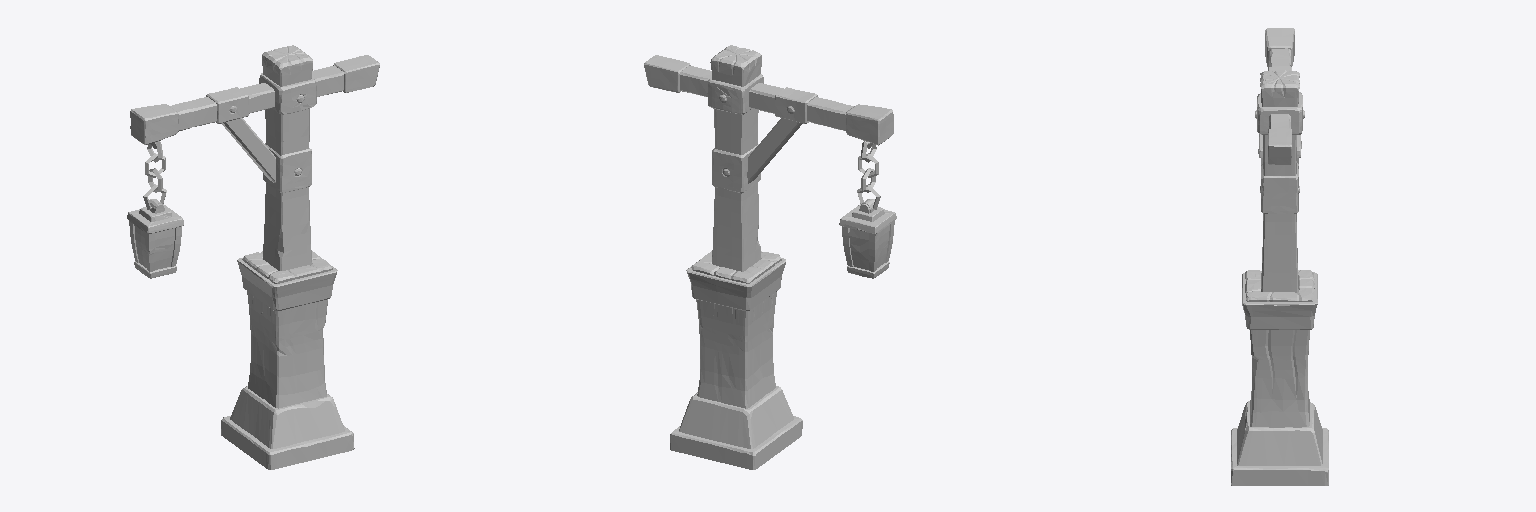
The model's file is LampPost.obj.
3 renders of one model, left to right at view 1: azimuth 30°, elevation 25°; view 2: azimuth 150°, elevation 25°; view 3: azimuth 270°, elevation 25°, orthographic.
Parts seen in each view (by area): view 1: Wood_Base_low_Plane.001, Base_Stone_low_Plane, Wood_Pillar_low_Plane.002, Lantern_low_Cube, Metal_Ring_low_Plane.003, Wood_Horizontal_low_Plane.005, Metal_Block_05_low_Plane.010, Metal_Block_01_low_Plane.006, Wood_Small_low_Plane.004, Metal_Block_03_low_Plane.008, Metal_Block_02_low_Plane.007, Metal_Block_04_low_Plane.009; view 2: Wood_Base_low_Plane.001, Base_Stone_low_Plane, Wood_Pillar_low_Plane.002, Lantern_low_Cube, Metal_Ring_low_Plane.003, Wood_Horizontal_low_Plane.005, Metal_Block_05_low_Plane.010, Metal_Block_01_low_Plane.006, Wood_Small_low_Plane.004, Metal_Block_03_low_Plane.008, Metal_Block_02_low_Plane.007, Metal_Block_04_low_Plane.009; view 3: Wood_Base_low_Plane.001, Base_Stone_low_Plane, Wood_Pillar_low_Plane.002, Metal_Ring_low_Plane.003, Metal_Block_01_low_Plane.006, Metal_Block_03_low_Plane.008, Metal_Block_02_low_Plane.007, Metal_Block_05_low_Plane.010, Wood_Horizontal_low_Plane.005.
Boxes of the visible parts, box(x1,y1,x2,y2) form: Wood_Base_low_Plane.001: box(242, 251, 332, 408); Base_Stone_low_Plane: box(221, 386, 354, 469); Wood_Pillar_low_Plane.002: box(262, 45, 312, 270); Lantern_low_Cube: box(127, 204, 183, 278); Metal_Ring_low_Plane.003: box(237, 257, 337, 310); Wood_Horizontal_low_Plane.005: box(170, 65, 343, 131); Metal_Block_05_low_Plane.010: box(130, 104, 178, 144); Metal_Block_01_low_Plane.006: box(263, 143, 311, 192); Wood_Small_low_Plane.004: box(222, 118, 275, 182); Metal_Block_03_low_Plane.008: box(259, 73, 316, 114); Metal_Block_02_low_Plane.007: box(333, 55, 379, 92); Metal_Block_04_low_Plane.009: box(206, 87, 248, 123); Wood_Base_low_Plane.001: box(691, 251, 781, 408); Base_Stone_low_Plane: box(670, 386, 802, 469); Wood_Pillar_low_Plane.002: box(710, 45, 761, 271); Lantern_low_Cube: box(839, 204, 896, 278); Metal_Ring_low_Plane.003: box(686, 258, 785, 310); Wood_Horizontal_low_Plane.005: box(680, 66, 853, 130); Metal_Block_05_low_Plane.010: box(845, 104, 893, 145); Metal_Block_01_low_Plane.006: box(712, 144, 760, 193); Wood_Small_low_Plane.004: box(747, 118, 802, 183); Metal_Block_03_low_Plane.008: box(707, 74, 763, 114); Metal_Block_02_low_Plane.007: box(644, 55, 690, 92); Metal_Block_04_low_Plane.009: box(775, 87, 817, 123); Wood_Base_low_Plane.001: box(1245, 270, 1314, 427); Base_Stone_low_Plane: box(1231, 401, 1328, 485); Wood_Pillar_low_Plane.002: box(1260, 70, 1299, 292); Metal_Ring_low_Plane.003: box(1242, 272, 1317, 329); Metal_Block_01_low_Plane.006: box(1261, 163, 1298, 213); Metal_Block_03_low_Plane.008: box(1257, 92, 1302, 134); Metal_Block_02_low_Plane.007: box(1268, 128, 1291, 164); Metal_Block_05_low_Plane.010: box(1265, 28, 1294, 66); Wood_Horizontal_low_Plane.005: box(1269, 48, 1290, 128).
Size of the model in its own units: 16.09 by 25.09 by 5.79.